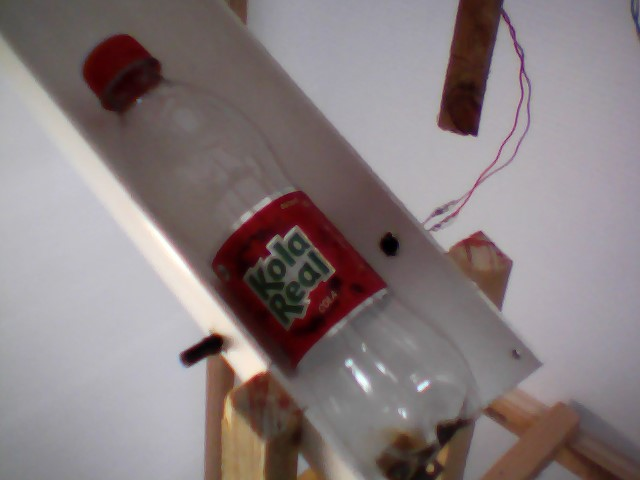plastico: (76, 27, 501, 480)
